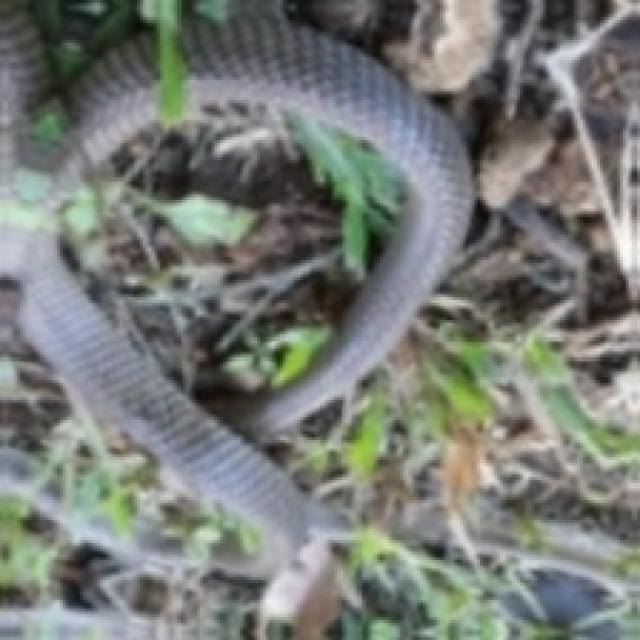paradise tree snake: (0, 6, 471, 637), (3, 531, 200, 637), (54, 143, 131, 294), (0, 3, 40, 209)
